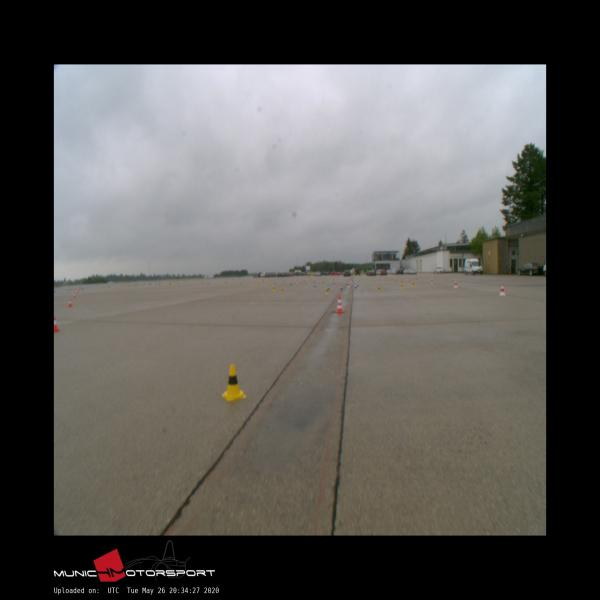large_orange_cone: (335, 295, 343, 312)
orange_cone: (53, 316, 60, 332), (68, 299, 73, 307)
yellow_cone: (222, 364, 246, 401)
